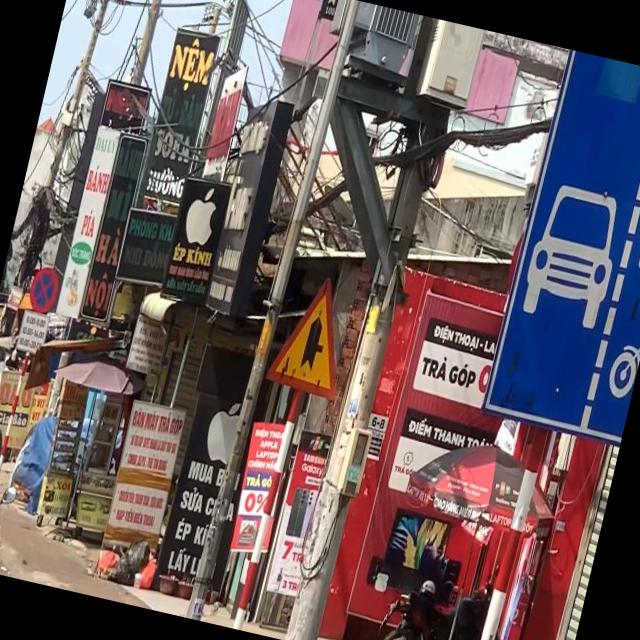P-130: (24, 262, 62, 316)
W-207b: (262, 268, 356, 400)
